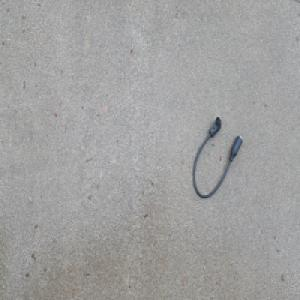Wire: (192, 116, 243, 200)
